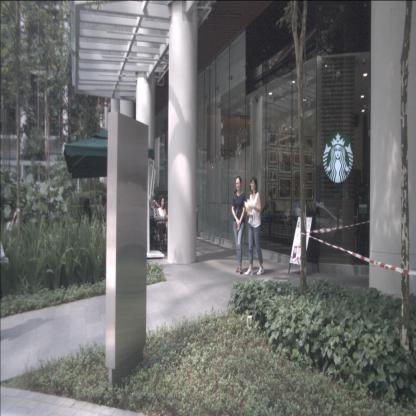human-pedestrian-adult: (244, 176, 265, 277), (231, 175, 246, 275), (348, 185, 359, 262), (260, 192, 276, 242), (154, 196, 168, 251), (97, 196, 109, 248), (149, 194, 161, 245), (82, 198, 94, 248), (292, 201, 302, 243), (283, 199, 291, 242)
vehicle-car: (286, 201, 352, 256)
